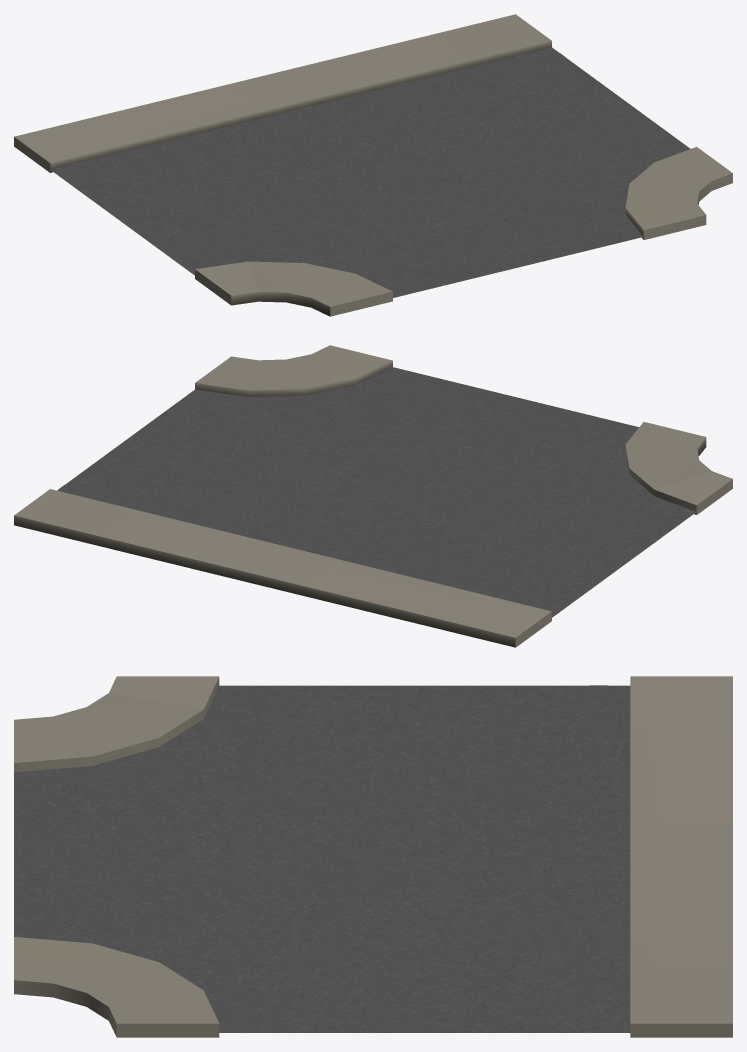
Rendered from Road2.fbx.
3 renders of one model, top to bottom at view 1: azimuth 30°, elevation 25°; view 2: azimuth 150°, elevation 25°; view 3: azimuth 270°, elevation 25°, orthographic. The views are drawn at different scales.
Parts seen in each view (by area): view 1: Group002; view 2: Group002; view 3: Group002.
Boxes of the visible parts, x1=… form: Group002: x1=14, y1=14, x2=732, y2=316; Group002: x1=14, y1=345, x2=732, y2=647; Group002: x1=14, y1=676, x2=732, y2=1037.
Bounding box in the file's own units: 29898 × 561 × 26161.
